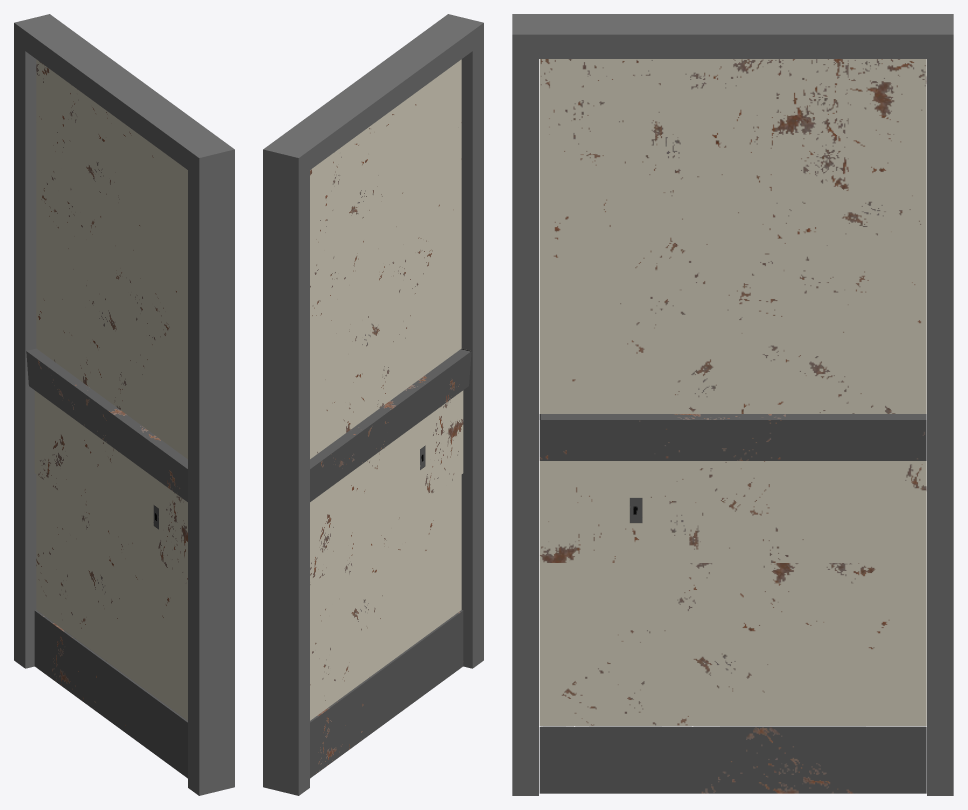
Rendered from PortaRE1.fbx.
3 views of the same model, side by side, from view 1: azimuth 30°, elevation 25°; view 2: azimuth 150°, elevation 25°; view 3: azimuth 270°, elevation 25° (orthographic). The views are drawn at different scales.
Visible parts, largest first — view 1: Porta, pCube1; view 2: Porta, pCube1; view 3: Porta, pCube1.
Boxes of the visible parts, x1,y1,x2,y2 form: Porta: [26, 59, 187, 778]; pCube1: [14, 14, 234, 795]; Porta: [310, 59, 471, 778]; pCube1: [263, 14, 483, 795]; Porta: [539, 59, 926, 793]; pCube1: [512, 14, 953, 795].
Size of the model in its own units: 0.1593 by 2.37 by 1.25.
2 materials, 1 textured.
